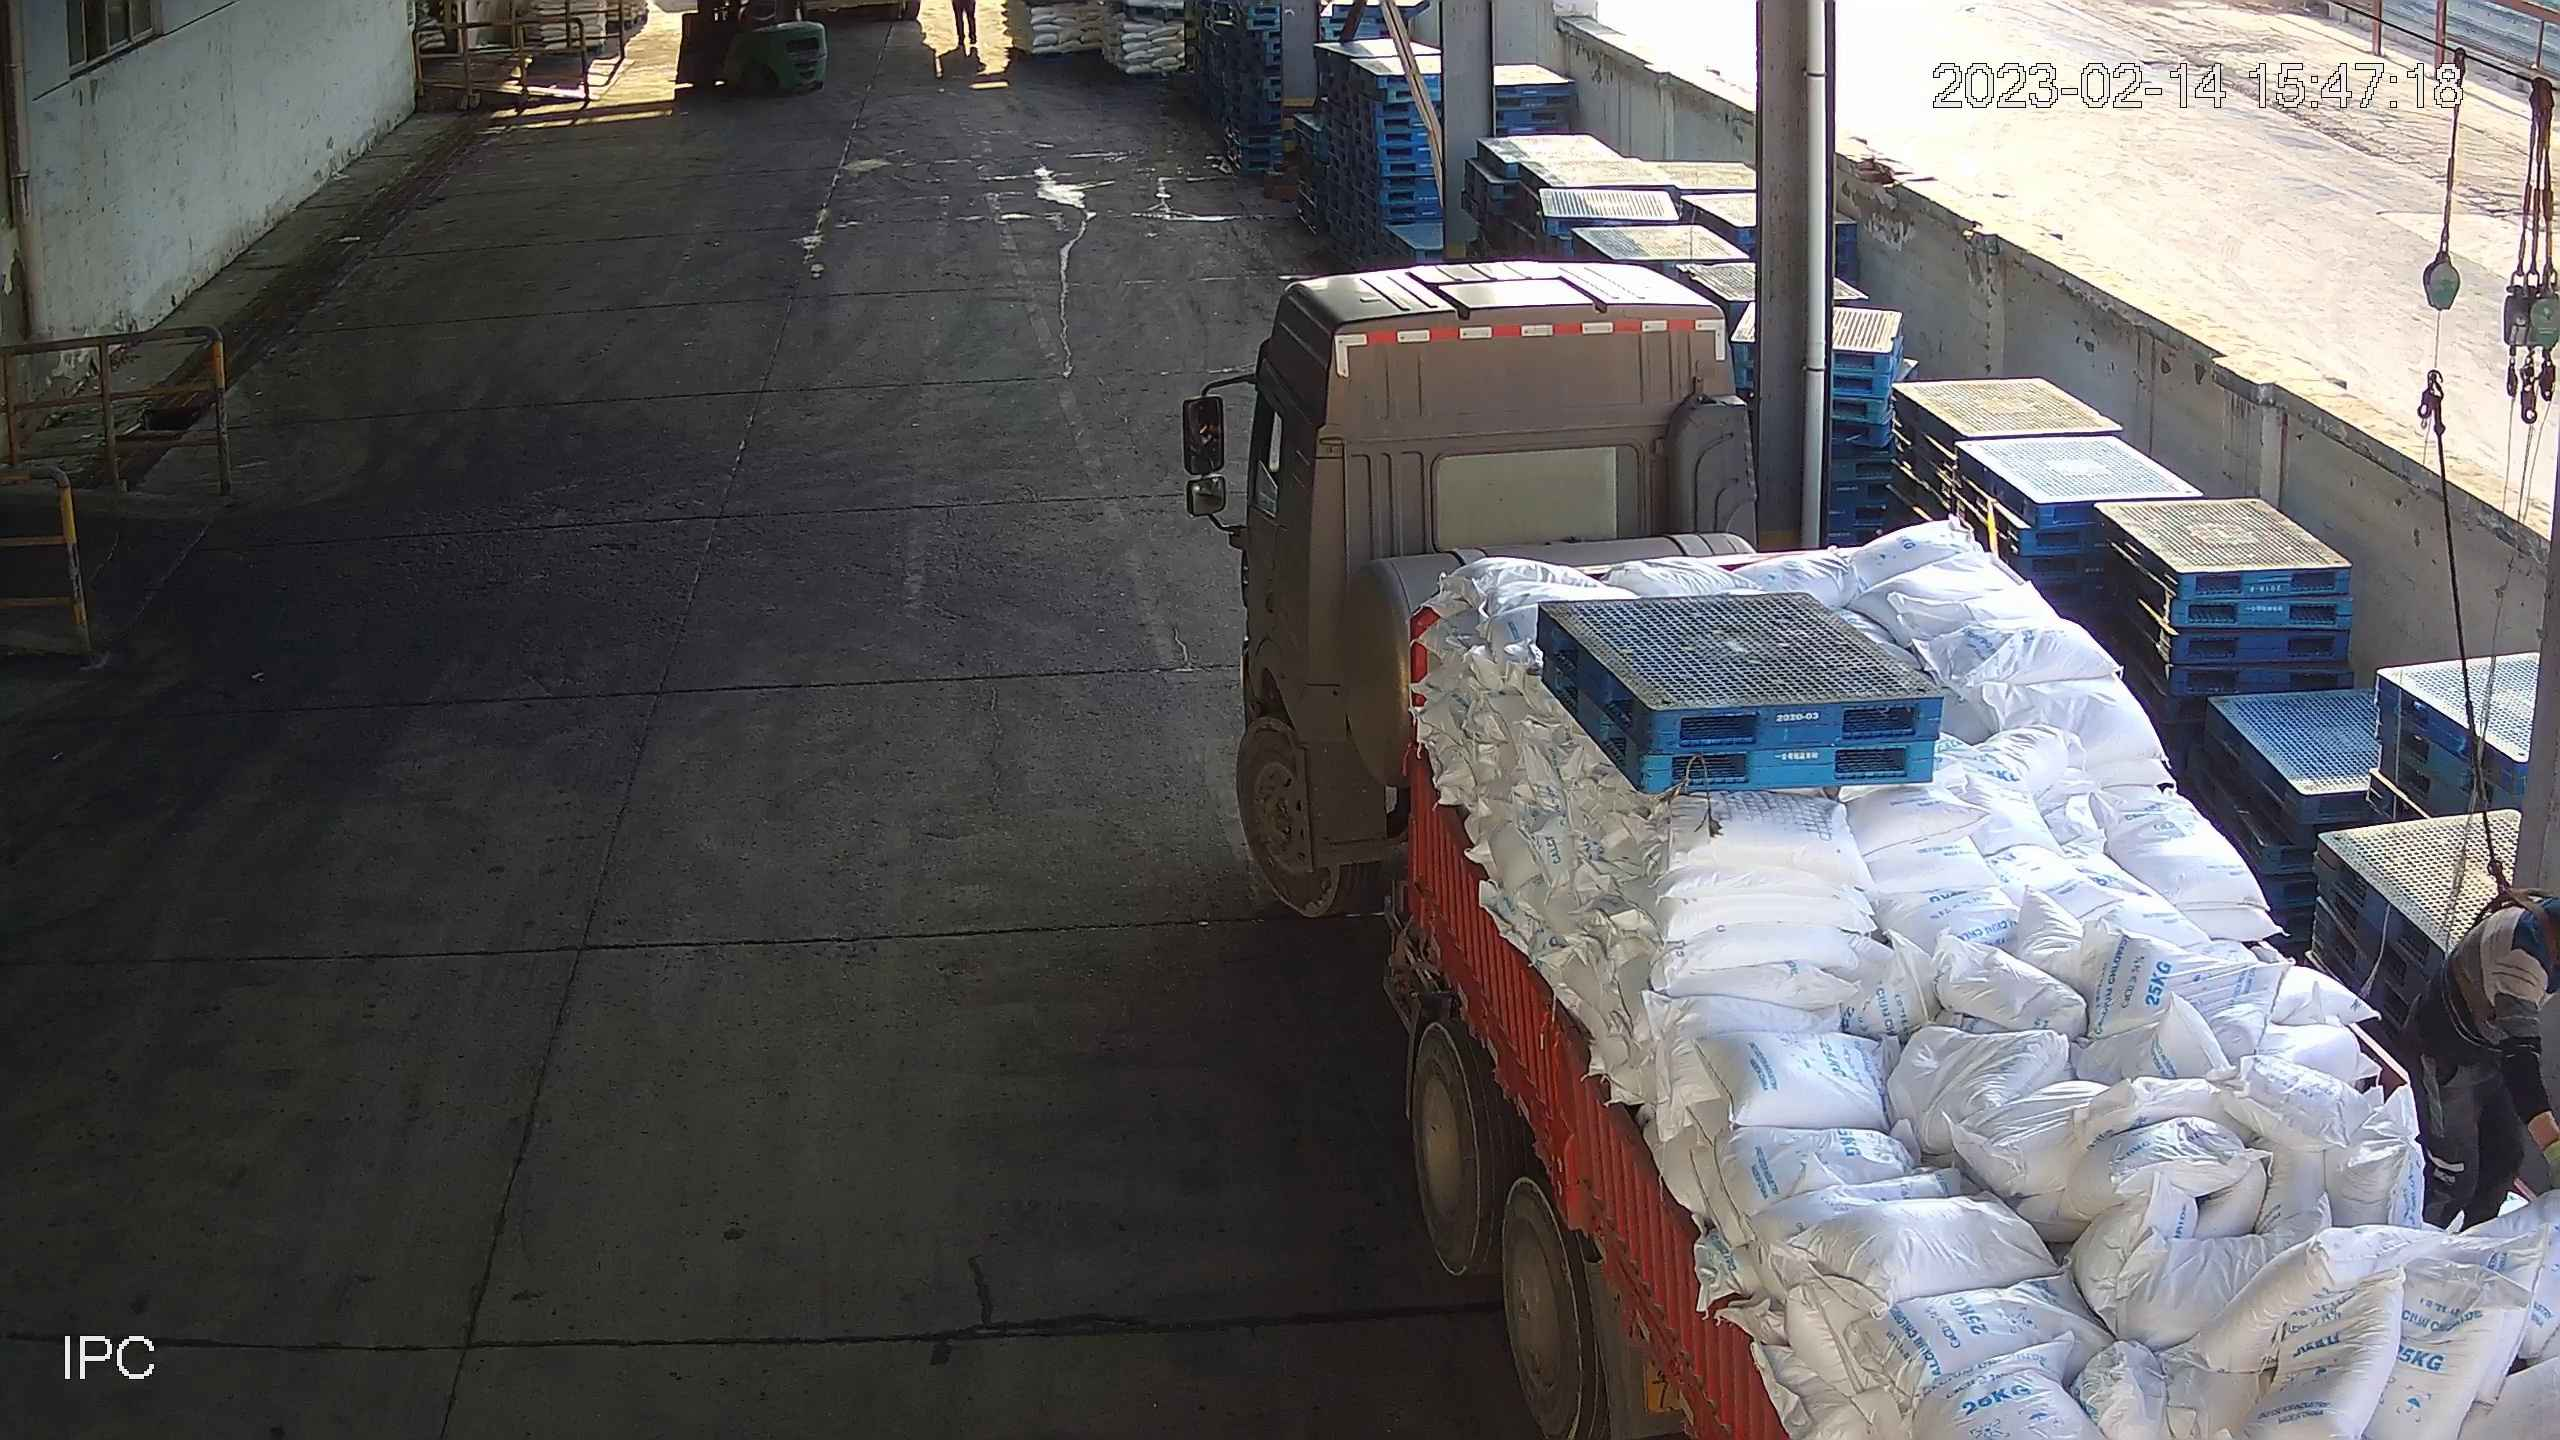belt: (2456, 849, 2559, 1013)
head: (2469, 887, 2560, 1016)
people: (2397, 883, 2560, 1234)
truck: (1230, 257, 2560, 1440)
